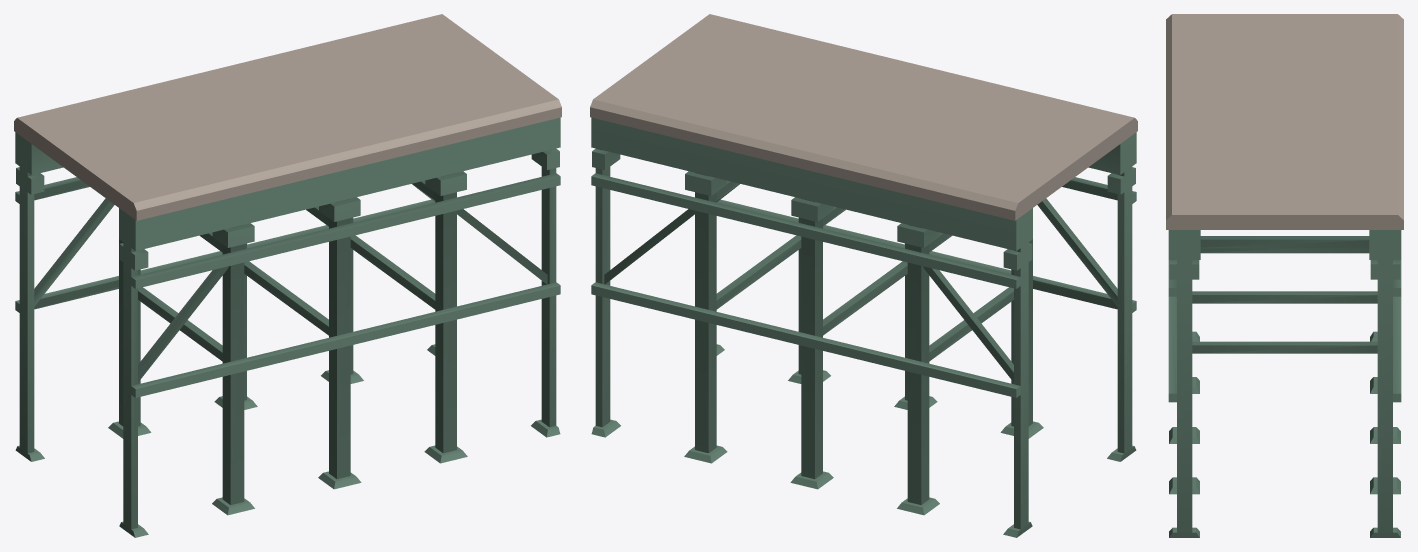
Rendered from scaffold.glb.
3 renders of one model, left to right at view 1: azimuth 30°, elevation 25°; view 2: azimuth 150°, elevation 25°; view 3: azimuth 270°, elevation 25°, orthographic. The views are drawn at different scales.
Parts seen in each view (by area): view 1: scaffold; view 2: scaffold; view 3: scaffold.
Part boxes in pixels (box(x1,y1,x2,y2)): scaffold: box(14, 14, 561, 537); scaffold: box(590, 14, 1137, 537); scaffold: box(1166, 14, 1403, 537).
Bounding box in the file's own units: 4 × 3 × 2.
